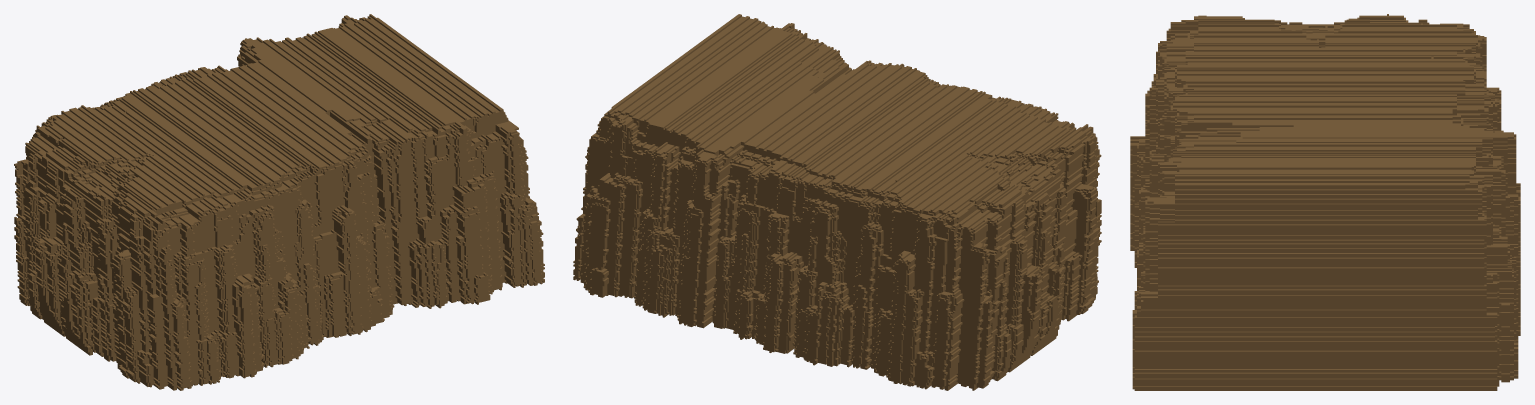
Rendered from forest1.4-175.obj.
3 renders of one model, left to right at view 1: azimuth 30°, elevation 25°; view 2: azimuth 150°, elevation 25°; view 3: azimuth 270°, elevation 25°, orthographic. The views are drawn at different scales.
Size of the model in its own units: 25.6 by 11.7 by 18.4.
1 material, 1 textured.
